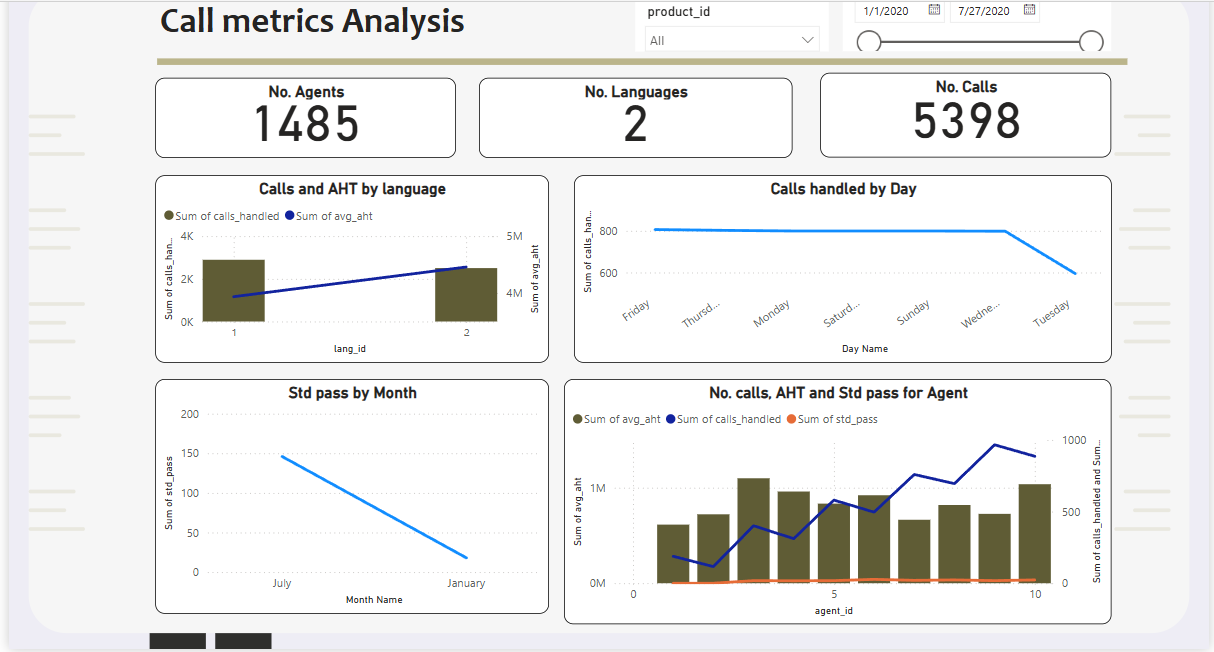

Layout of this report page (visuals, bound fields, positions):
{"tool":"powerbi","page":{"name":"Page 1","canvas":[1280,720],"ordinal":0},"visuals":[{"type":"lineStackedColumnComboChart","title":"No. calls, AHT and Std pass for Agent","fields":{"Category":["call_metrics_dataset.agent_id"],"Y2":["Sum(call_metrics_dataset.calls_handled)","Sum(call_metrics_dataset.std_pass)"],"Y":["Sum(call_metrics_dataset.avg_aht)"]},"box":[592.1,431.6,584.2,261.8],"z":0},{"type":"lineChart","title":"Calls handled by Day ","fields":{"Category":["call_metrics_dataset.Day Name"],"Y":["Sum(call_metrics_dataset.calls_handled)"]},"box":[602.6,214.5,573.7,200],"z":1000},{"type":"card","title":"No. Agents","fields":{"Values":["Sum(call_metrics_dataset.agent_id)"]},"box":[156.6,110.5,321.1,85.5],"z":2000},{"type":"card","title":"No. Languages","fields":{"Values":["Count(call_metrics_dataset.lang_id)"]},"box":[501.3,110.5,334.2,85.5],"z":3000},{"type":"card","title":"No. Calls","fields":{"Values":["Sum(call_metrics_dataset.calls_handled)"]},"box":[865.8,105.3,310.5,90.8],"z":4000},{"type":"lineClusteredColumnComboChart","title":"Calls and AHT by language","fields":{"Category":["call_metrics_dataset.lang_id"],"Y":["Sum(call_metrics_dataset.calls_handled)"],"Y2":["Sum(call_metrics_dataset.avg_aht)"]},"box":[156.6,214.5,419.7,200],"z":5000},{"type":"lineChart","title":"Std pass by Month","fields":{"Y":["Sum(call_metrics_dataset.std_pass)"],"Category":["call_metrics_dataset.Month Name"]},"box":[156.6,431.6,419.7,250],"z":6000},{"type":"textbox","box":[156.6,21.1,419.7,68.4],"z":7000},{"type":"slicer","fields":{"Values":["call_metrics_dataset.date"]},"box":[889.3,0,286.7,82.7],"z":7001},{"type":"slicer","fields":{"Values":["call_metrics_dataset.product_id"]},"box":[668,26.7,206.7,56],"z":7002}]}

Visuals, with their boxes in screenshot pixels (x1, y1, x2, y2):
"No. calls, AHT and Std pass for Agent" lineStackedColumnComboChart: Rect(560, 374, 1101, 616)
"Calls handled by Day " lineChart: Rect(570, 173, 1101, 358)
"No. Agents" card: Rect(157, 77, 454, 156)
"No. Languages" card: Rect(476, 77, 785, 156)
"No. Calls" card: Rect(813, 72, 1101, 156)
"Calls and AHT by language" lineClusteredColumnComboChart: Rect(157, 173, 546, 358)
"Std pass by Month" lineChart: Rect(157, 374, 546, 605)
textbox: Rect(157, 0, 546, 57)
slicer - call_metrics_dataset.date: Rect(835, 0, 1100, 51)
slicer - call_metrics_dataset.product_id: Rect(630, 0, 822, 51)
